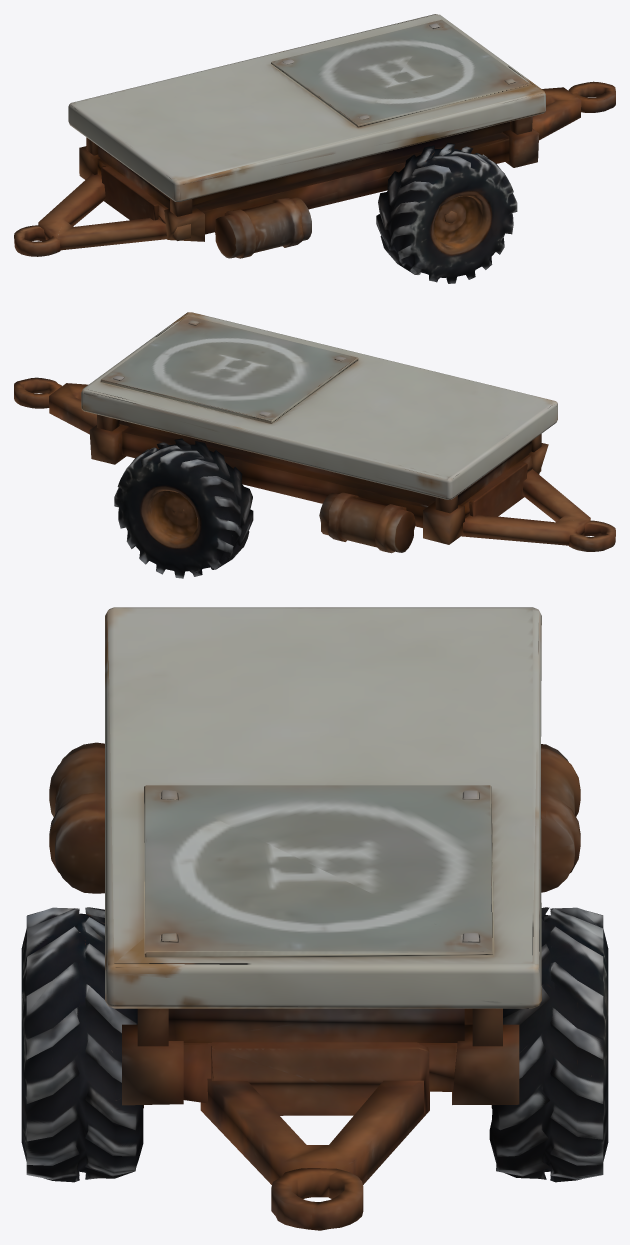
Rendered from big_rig_mid.glb.
3 renders of one model, top to bottom at view 1: azimuth 30°, elevation 25°; view 2: azimuth 150°, elevation 25°; view 3: azimuth 270°, elevation 25°, orthographic. The views are drawn at different scales.
Parts seen in each view (by area): view 1: geometry_0; view 2: geometry_0; view 3: geometry_0.
Boxes of the visible parts, x1,y1,x2,y2 form: geometry_0: [14, 14, 615, 283]; geometry_0: [14, 312, 615, 578]; geometry_0: [21, 607, 608, 1230].
Size of the model in its own units: 0.9502 by 0.2393 by 0.4048.
Materials: 1 (1 with a texture image).
